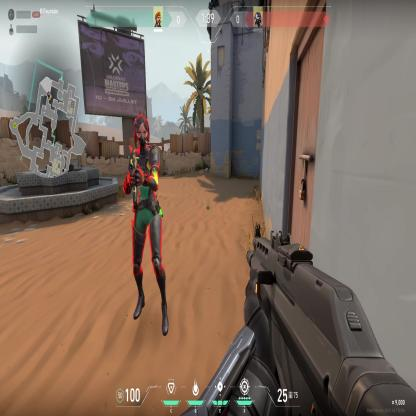enemy: (122, 112, 169, 336)
